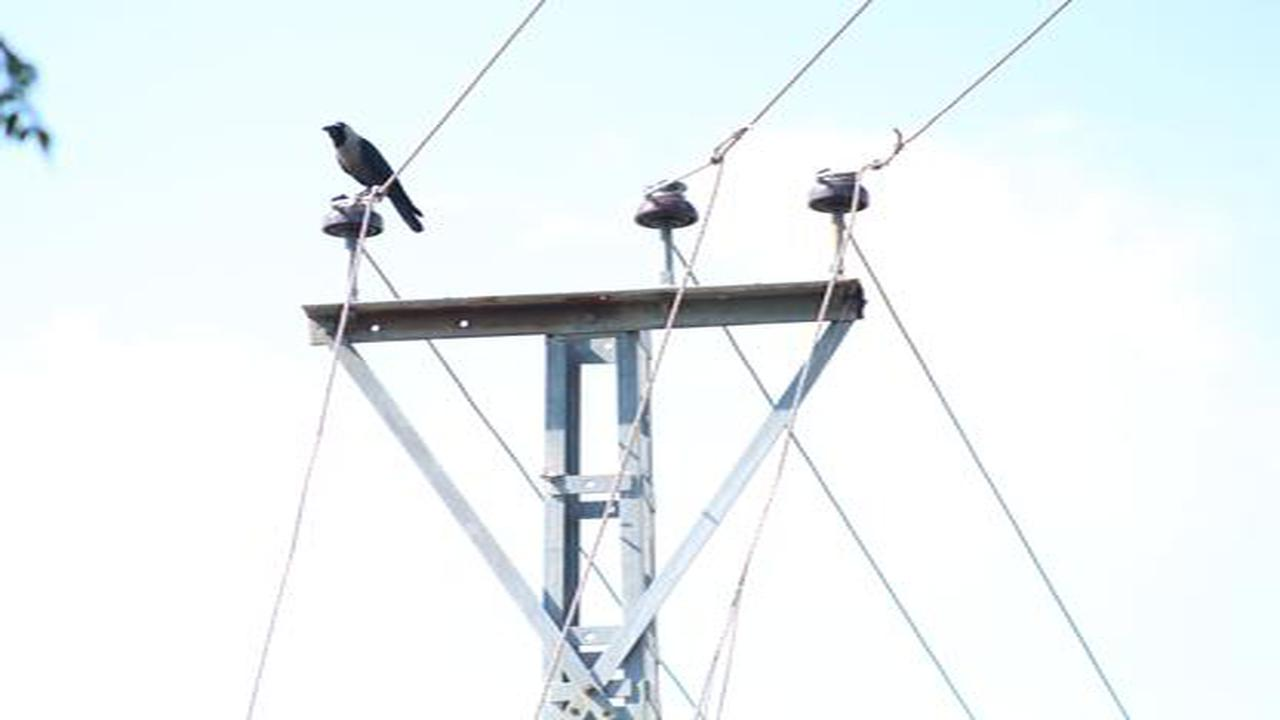insulator_pin: (629, 172, 708, 238), (798, 161, 879, 221), (315, 189, 390, 242)
